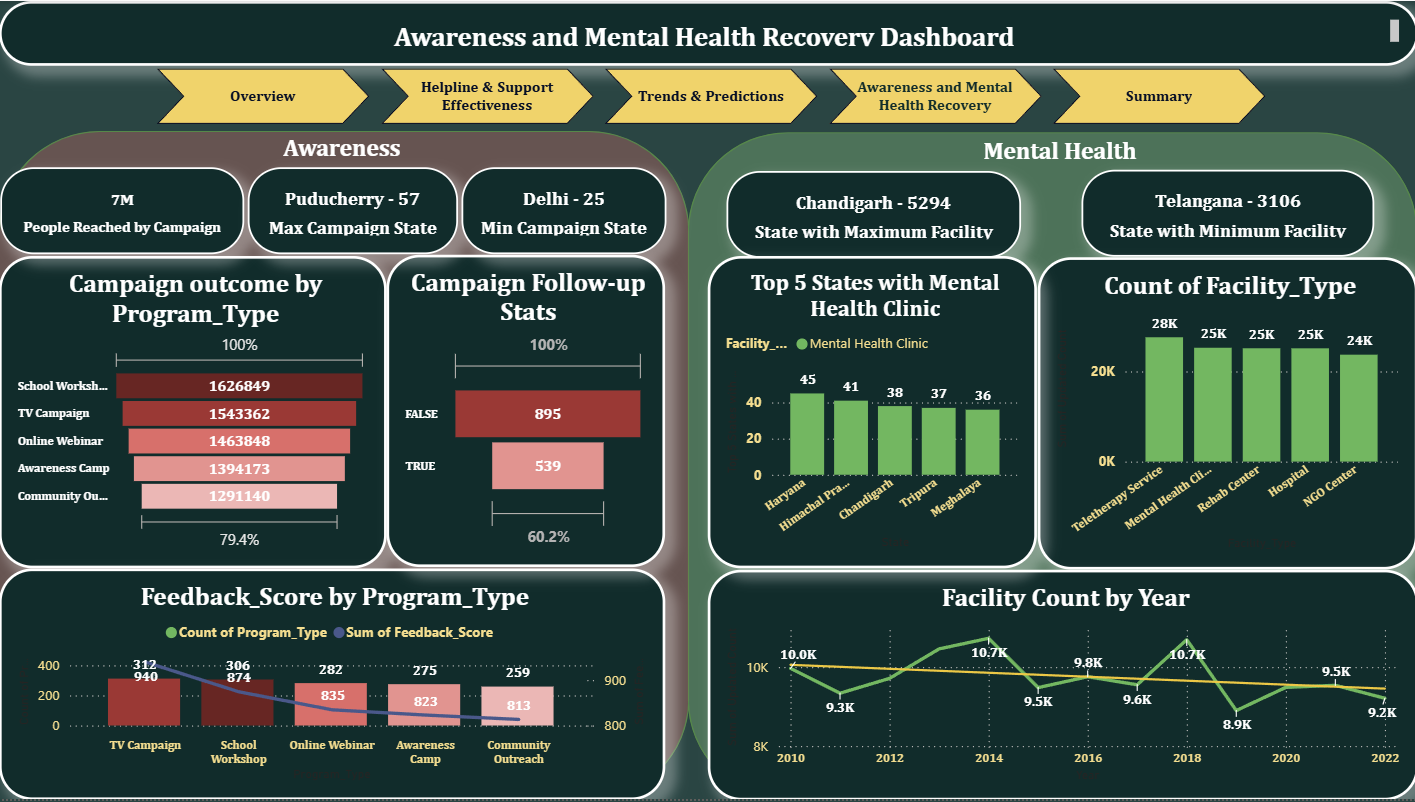

The dashboard page shown, as its layout file describes it:
{"tool":"powerbi","page":{"name":"Awareness and Mental Health Recovery","canvas":[1280,720],"ordinal":3},"visuals":[{"type":"textbox","box":[0,0,1280.3,58],"z":0},{"type":"shape","box":[621.2,118.6,657.9,601.6],"z":3000},{"type":"textbox","box":[882.9,117.4,154.1,40.4],"z":4000},{"type":"card","fields":{"Values":["Mental_Health_Facilities.State with Minimum Facility"]},"box":[975.8,151.6,264.1,78.3],"z":5000},{"type":"clusteredColumnChart","title":"Count of Facility_Type","fields":{"Y":["Sum(Mental_Health_Facilities.Updated Count)"],"Category":["Mental_Health_Facilities.Facility_Type"]},"box":[936.7,231.1,342.4,281.3],"z":6000},{"type":"card","fields":{"Values":["Mental_Health_Facilities.State with Maximum Facility"]},"box":[655.4,152.9,265.4,78.3],"z":7000},{"type":"lineChart","title":"Facility Count by Year","fields":{"Category":["Mental_Health_Facilities.Year"],"Y":["Sum(Mental_Health_Facilities.Updated Count)"]},"box":[639.5,512.4,640.8,208],"z":8000},{"type":"shape","box":[0,117.4,622.4,602.9],"z":9000},{"type":"textbox","box":[251.9,114.9,119.8,39.1],"z":10000},{"type":"funnel","fields":{"Category":["Awareness_Programs.Program_Type"],"Y":["Awareness_Programs.Campaign outcome"]},"box":[0,229.5,349.9,281.3],"z":11000},{"type":"lineClusteredColumnComboChart","title":"Feedback_Score by Program_Type","fields":{"Category":["Awareness_Programs.Program_Type"],"Y":["CountNonNull(Awareness_Programs.Program_Type)"],"Y2":["Sum(Awareness_Programs.Feedback_Score)"]},"box":[0,511.8,601,208.6],"z":12000},{"type":"funnel","title":"Campaign Follow-up Stats","fields":{"Y":["CountNonNull(Awareness_Programs.follow_up)"],"Category":["Awareness_Programs.follow_up"]},"box":[349.9,229.2,251.1,281.3],"z":13000},{"type":"card","fields":{"Values":["Sum(Awareness_Programs.People_Reached)"]},"box":[1.2,150.4,220.1,78.3],"z":14000},{"type":"card","fields":{"Values":["Awareness_Programs.State with Maximum Campaign"]},"box":[223.8,150.4,189.5,78.3],"z":15000},{"type":"card","fields":{"Values":["Awareness_Programs.State with Minimum Campaign"]},"box":[417,150.4,184.6,78.3],"z":16000},{"type":"clusteredColumnChart","title":"Top 5 States with Mental Health Clinic ","fields":{"Category":["Mental_Health_Facilities.State"],"Y":["CountNonNull(Mental_Health_Facilities.Facility_Type)"],"Series":["Mental_Health_Facilities.Facility_Type"]},"box":[639.5,229.9,297.1,281.3],"z":17000},{"type":"pageNavigator","box":[141.8,61.1,1000.3,50.1],"z":18000}]}

Visuals, with their boxes in screenshot pixels (x1, y1, x2, y2), scaled from the page's 1280x720 canvas onto the 1415x802 screenshot:
textbox: bbox=[0, 0, 1414, 65]
shape: bbox=[687, 132, 1414, 801]
textbox: bbox=[976, 131, 1146, 176]
card - Mental_Health_Facilities.State with Minimum Facility: bbox=[1079, 169, 1371, 256]
"Count of Facility_Type" clusteredColumnChart: bbox=[1035, 257, 1414, 571]
card - Mental_Health_Facilities.State with Maximum Facility: bbox=[725, 170, 1018, 258]
"Facility Count by Year" lineChart: bbox=[707, 571, 1414, 801]
shape: bbox=[0, 131, 688, 801]
textbox: bbox=[278, 128, 411, 172]
funnel - Awareness_Programs.Program_Type x Awareness_Programs.Campaign outcome: bbox=[0, 256, 387, 569]
"Feedback_Score by Program_Type" lineClusteredColumnComboChart: bbox=[0, 570, 664, 801]
"Campaign Follow-up Stats" funnel: bbox=[387, 255, 664, 569]
card - Sum(Awareness_Programs.People_Reached): bbox=[1, 168, 245, 255]
card - Awareness_Programs.State with Maximum Campaign: bbox=[247, 168, 457, 255]
card - Awareness_Programs.State with Minimum Campaign: bbox=[461, 168, 665, 255]
"Top 5 States with Mental Health Clinic " clusteredColumnChart: bbox=[707, 256, 1035, 569]
pageNavigator: bbox=[157, 68, 1263, 124]
